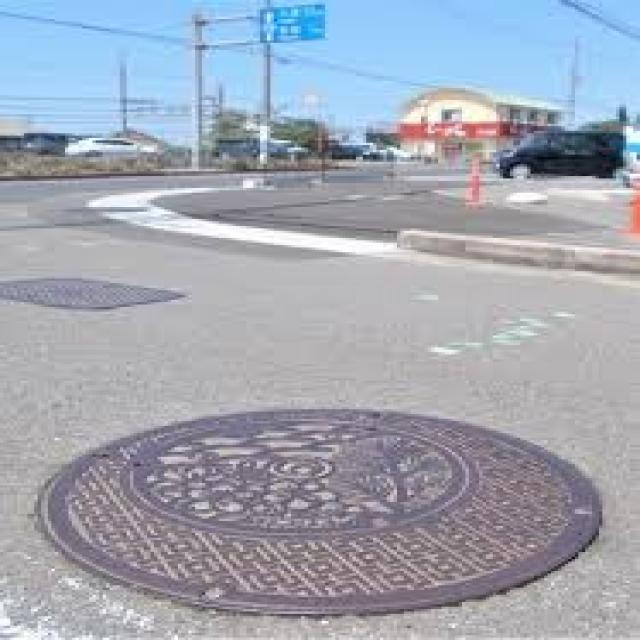manhole: (33, 408, 600, 616)
